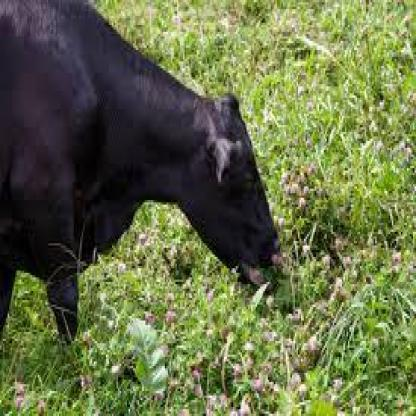cow: (1, 0, 282, 350)
